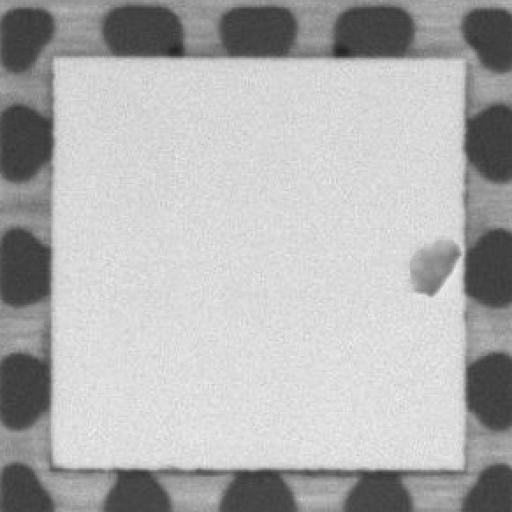DIE_INK: (396, 229, 466, 306)
